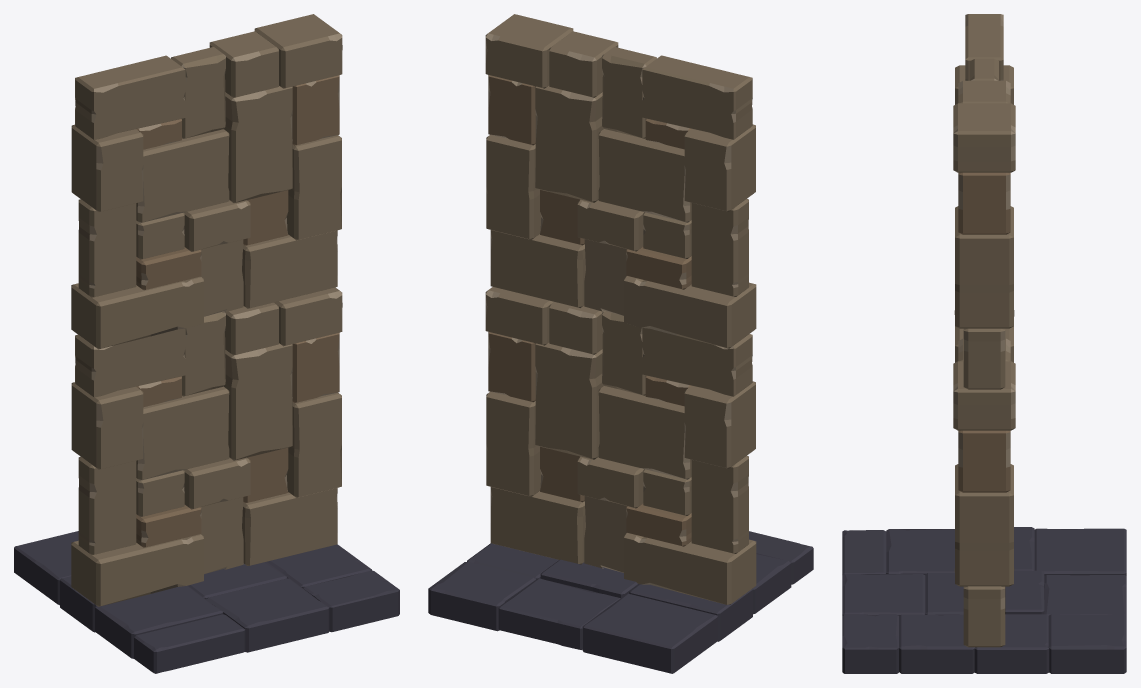
The model's file is wall_modular.glb.
3 renders of one model, left to right at view 1: azimuth 30°, elevation 25°; view 2: azimuth 150°, elevation 25°; view 3: azimuth 270°, elevation 25°, orthographic.
Parts seen in each view (by area): view 1: wall_modular; view 2: wall_modular; view 3: wall_modular.
Boxes of the visible parts, left/top/right/bottom form: wall_modular: left=14, top=14, right=399, bottom=673; wall_modular: left=428, top=14, right=813, bottom=673; wall_modular: left=842, top=14, right=1126, bottom=673.
Size of the model in its own units: 2.01 by 4.23 by 2.
Materials: 1 (1 with a texture image).
